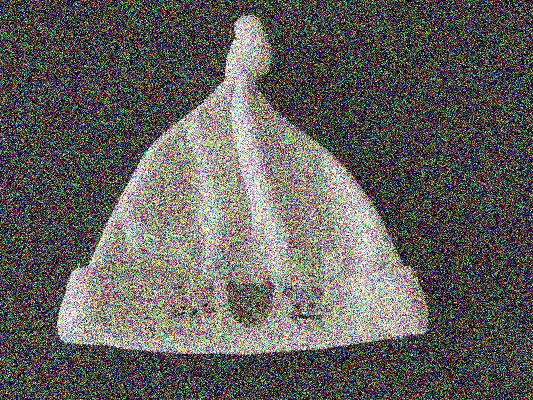Hat: (40, 24, 434, 363)
